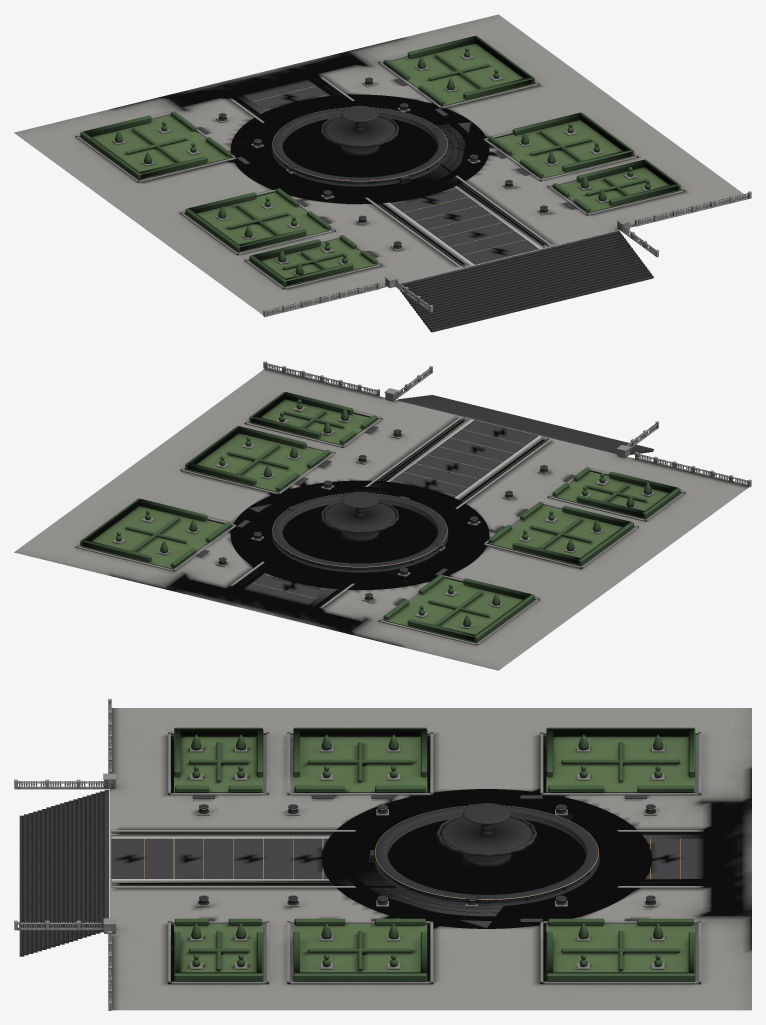
The model's file is hero_plaza.glb.
3 views of the same model, one above another, from view 1: azimuth 30°, elevation 25°; view 2: azimuth 150°, elevation 25°; view 3: azimuth 270°, elevation 25° (orthographic). The views are drawn at different scales.
Visible parts, largest first — view 1: P_paving, P_paveDark, P_lawn, P_hedge, P_steps, P_curb, P_marble, P_whiteMarble, P_gold, P_iron; view 2: P_paving, P_paveDark, P_lawn, P_hedge, P_curb, P_marble, P_whiteMarble, P_steps, P_gold, P_iron; view 3: P_paving, P_paveDark, P_lawn, P_hedge, P_steps, P_curb, P_marble, P_whiteMarble, P_gold, P_iron.
Part boxes in pixels (left/top/right/bottom): P_paving: left=14, top=14, right=746, bottom=314; P_paveDark: left=196, top=78, right=576, bottom=264; P_lawn: left=92, top=43, right=679, bottom=286; P_hedge: left=80, top=35, right=680, bottom=286; P_steps: left=399, top=230, right=653, bottom=332; P_curb: left=75, top=55, right=751, bottom=316; P_marble: left=218, top=77, right=548, bottom=248; P_whiteMarble: left=237, top=78, right=544, bottom=265; P_gold: left=219, top=77, right=547, bottom=266; P_iron: left=232, top=76, right=549, bottom=267; P_paving: left=14, top=369, right=748, bottom=670; P_paveDark: left=196, top=420, right=575, bottom=605; P_lawn: left=81, top=399, right=668, bottom=642; P_hedge: left=80, top=391, right=680, bottom=642; P_curb: left=75, top=361, right=751, bottom=645; P_marble: left=218, top=429, right=548, bottom=600; P_whiteMarble: left=237, top=418, right=544, bottom=606; P_steps: left=397, top=395, right=653, bottom=454; P_gold: left=218, top=418, right=547, bottom=606; P_iron: left=232, top=417, right=549, bottom=607; P_paving: left=110, top=708, right=751, bottom=1010; P_paveDark: left=111, top=789, right=704, bottom=928; P_lawn: left=174, top=736, right=695, bottom=981; P_hedge: left=174, top=727, right=695, bottom=981; P_steps: left=19, top=790, right=109, bottom=956; P_curb: left=14, top=699, right=704, bottom=1010; P_marble: left=198, top=803, right=655, bottom=906; P_whiteMarble: left=111, top=797, right=704, bottom=920; P_gold: left=111, top=801, right=703, bottom=916; P_iron: left=111, top=832, right=704, bottom=885.
Bounding box in the file's own units: 96.56 × 11.06 × 99.08.
